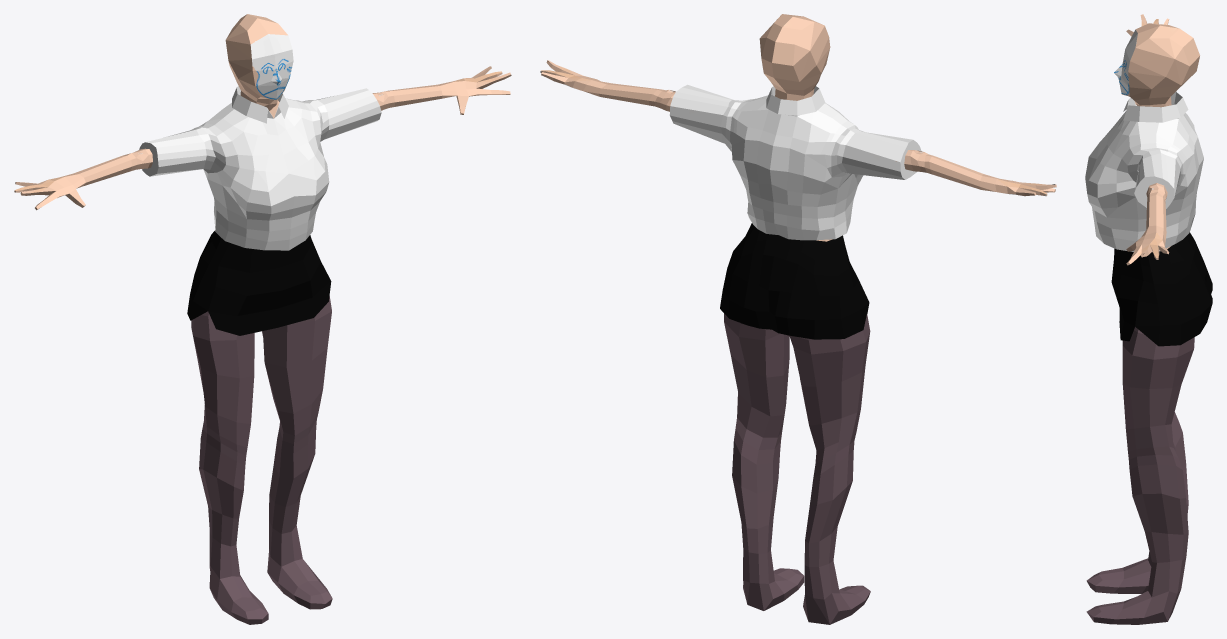
File: henohenomoheji.glb
3 renders of one model, left to right at view 1: azimuth 30°, elevation 25°; view 2: azimuth 150°, elevation 25°; view 3: azimuth 270°, elevation 25°, orthographic. The views are drawn at different scales.
Visible parts, largest first — view 1: body.001, shirt, skirt, head; view 2: body.001, shirt, skirt, head; view 3: body.001, shirt, skirt, head.
Part boxes in pixels (bbox=[...]): body.001: bbox=[14, 66, 511, 624]; shirt: bbox=[139, 86, 381, 250]; skirt: bbox=[187, 230, 331, 335]; head: bbox=[225, 14, 293, 110]; body.001: bbox=[540, 60, 1056, 624]; shirt: bbox=[669, 84, 921, 240]; skirt: bbox=[720, 223, 869, 339]; head: bbox=[759, 14, 830, 100]; body.001: bbox=[1086, 14, 1194, 624]; shirt: bbox=[1085, 91, 1203, 251]; skirt: bbox=[1111, 232, 1212, 346]; head: bbox=[1114, 23, 1199, 107].
Size of the model in its own units: 1.46 by 1.63 by 0.3273.
Materials: 2 (2 with a texture image).
